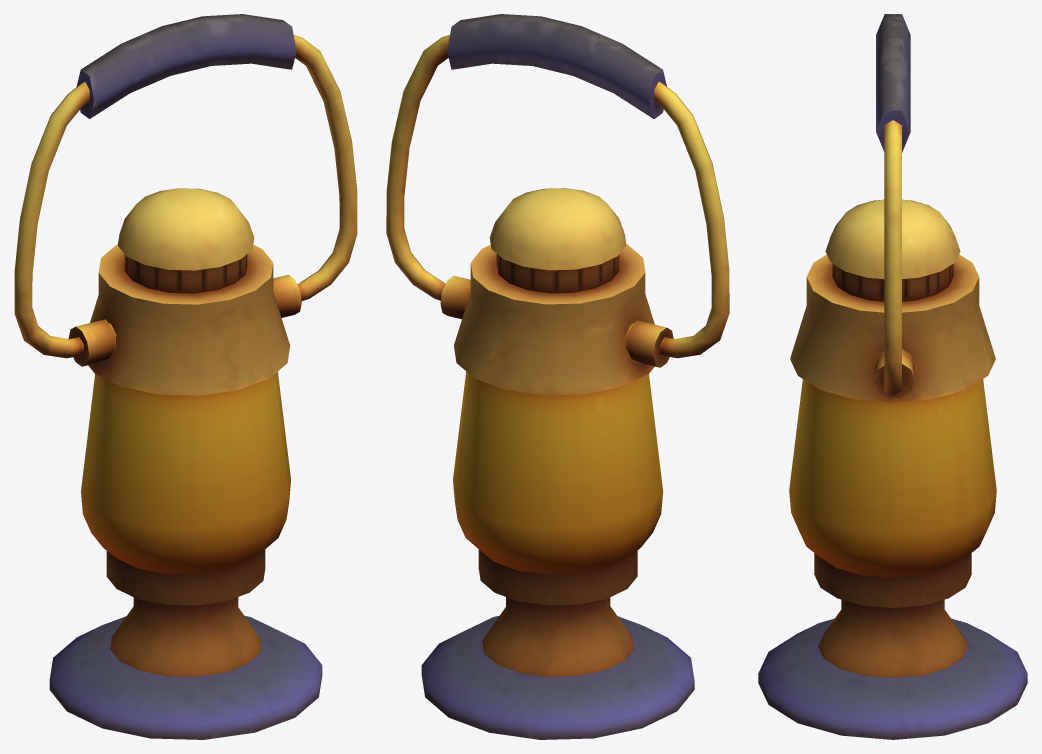
The model's file is LampOil01.FBX.
3 renders of one model, left to right at view 1: azimuth 30°, elevation 25°; view 2: azimuth 150°, elevation 25°; view 3: azimuth 270°, elevation 25°, orthographic. The views are drawn at different scales.
Parts seen in each view (by area): view 1: LampOil01; view 2: LampOil01; view 3: LampOil01.
Part boxes in pixels (x1,y1,x2,y2): LampOil01: (14,14,357,739); LampOil01: (386,14,729,739); LampOil01: (758,14,1027,739).
Size of what is drawn, in the model's own units: 0.2879 by 0.5273 by 0.2.
